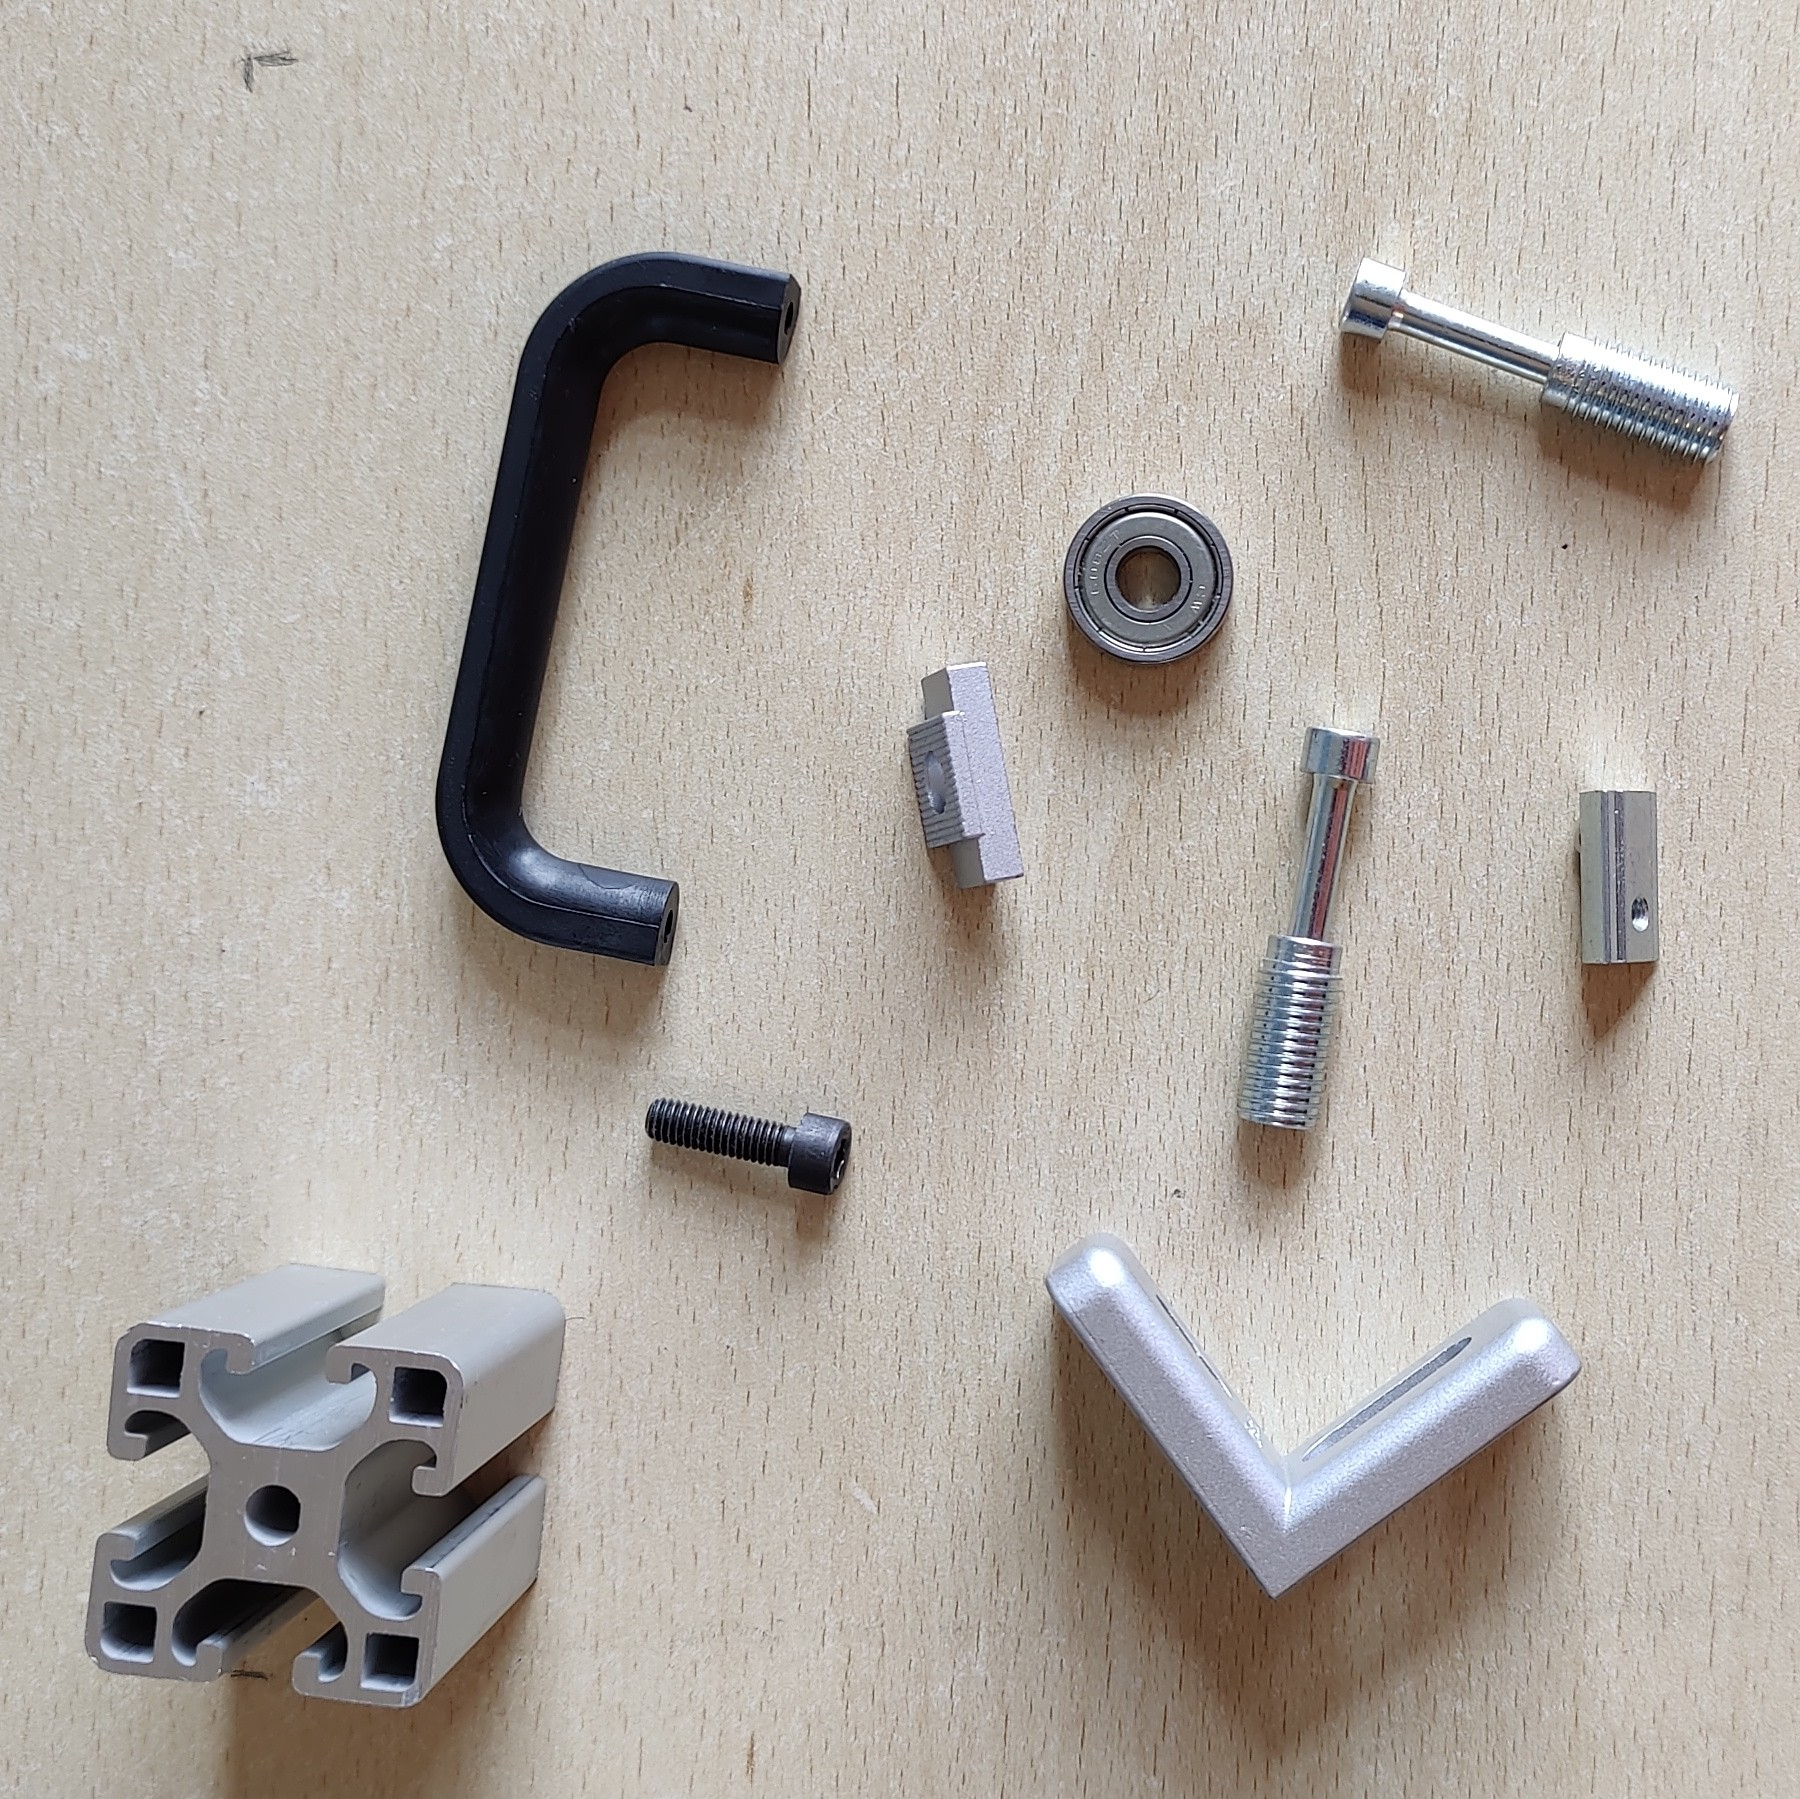Aluminium Extension: (82, 1264, 570, 1710)
Ball Bearing: (1059, 494, 1235, 669)
Multiwinkel: (1042, 1229, 1583, 1601)
Pull Handle: (433, 252, 805, 970)
Shoulder Socket Head Cap Screw: (1341, 252, 1741, 465), (1232, 723, 1378, 1133)
Socket Head Cap Screw: (642, 1092, 855, 1198)
T Nut Square: (901, 657, 1028, 895)
T Spring Nut: (1569, 784, 1663, 969)
